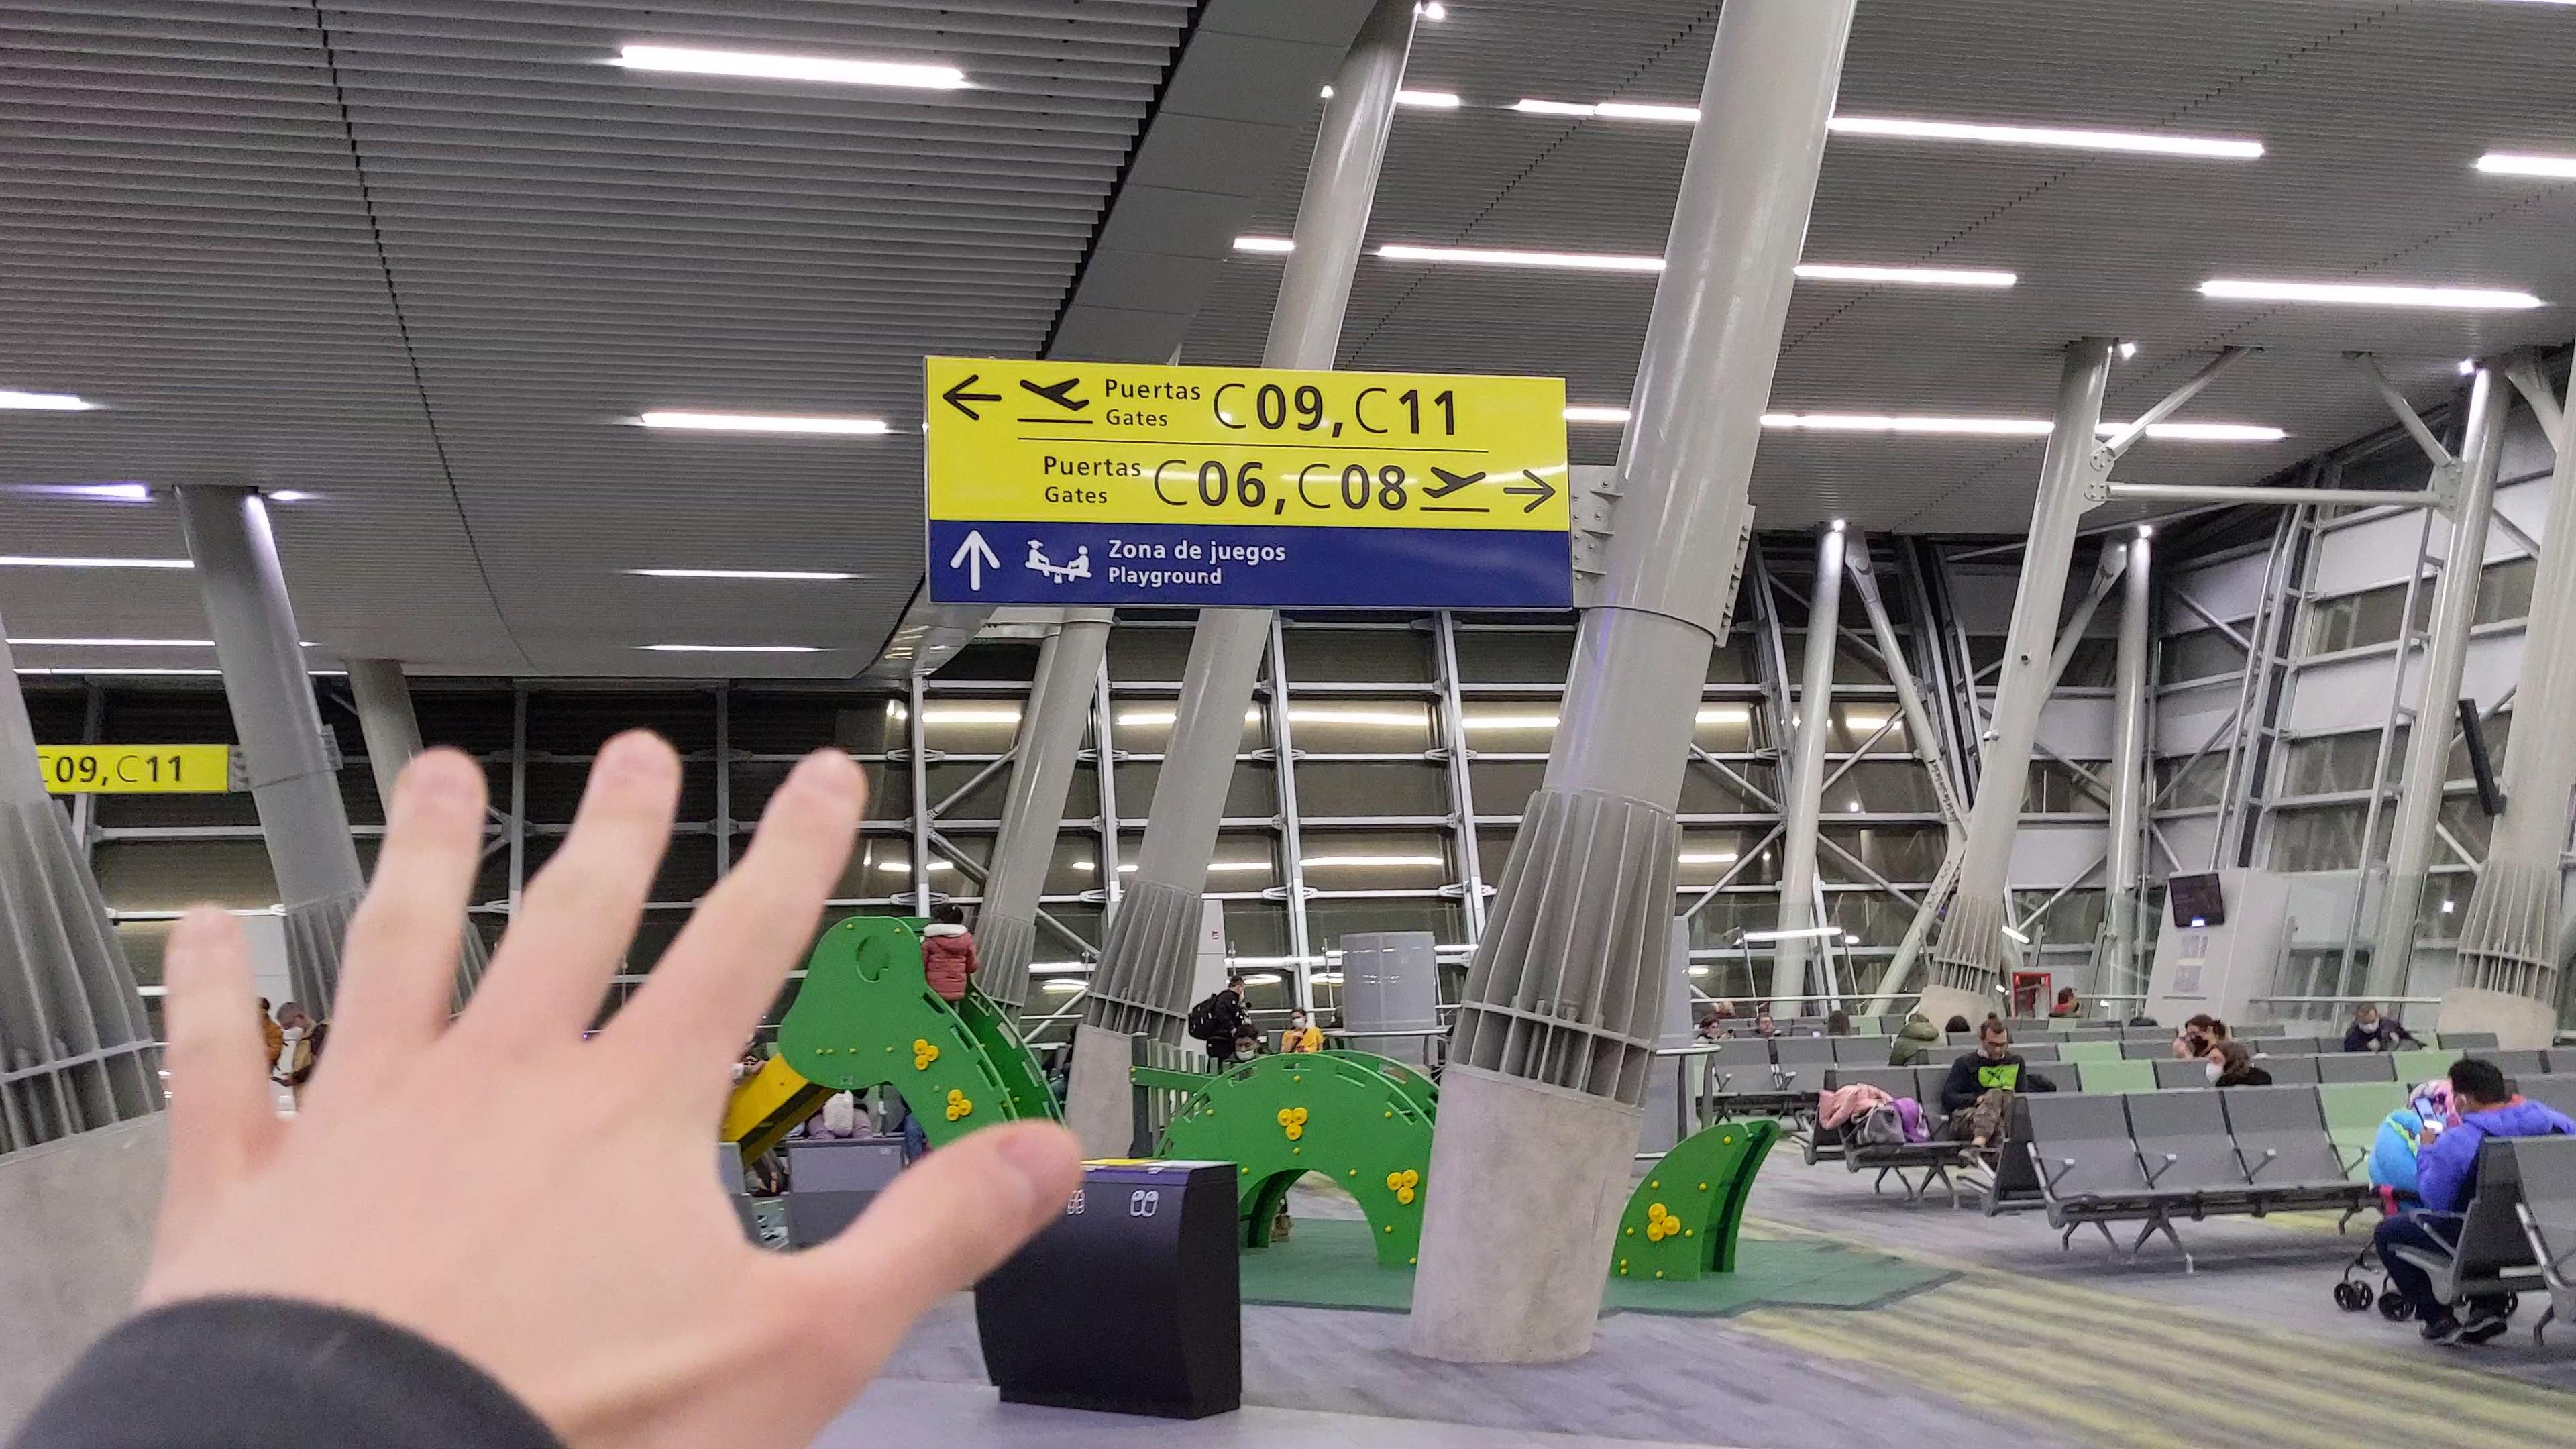airplane symbol: (1016, 373, 1093, 412), (1419, 462, 1490, 502)
thin left arrow: (939, 370, 1007, 425)
thin right arrow: (1499, 464, 1560, 520)
thin up arrow: (947, 527, 1003, 593)
